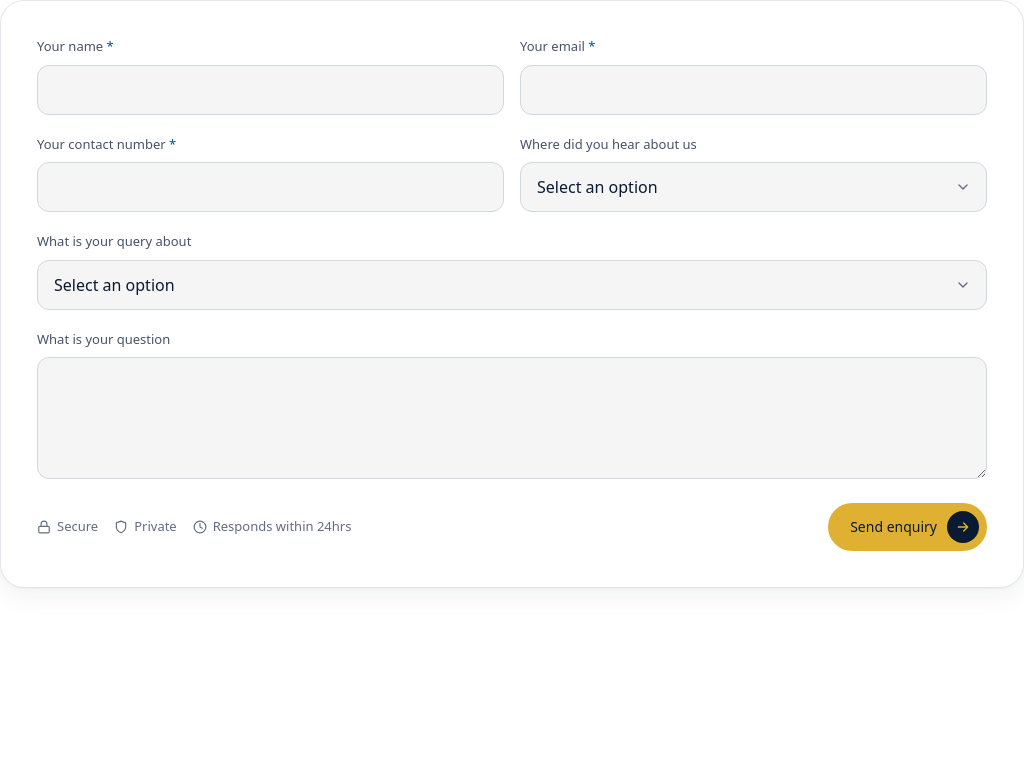
Test case: EnquiryForm › rejects malformed email and phone values
Type "Asha" into the field labelled "Your name *" at (270, 90), box [37,64,504,114]
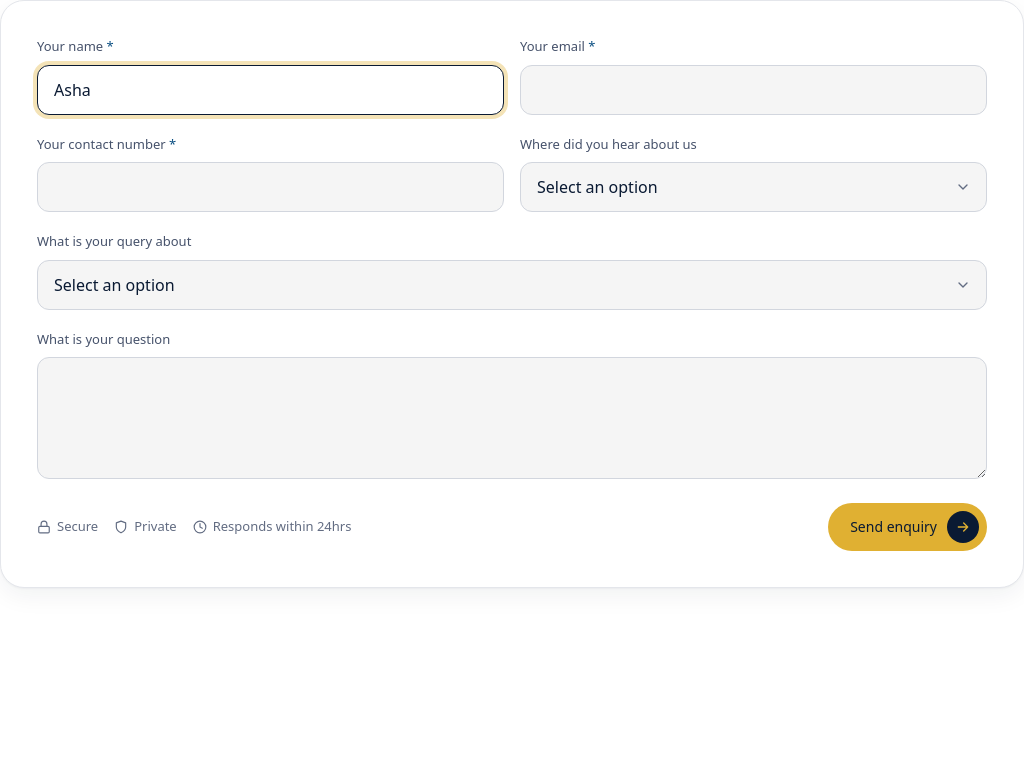
Type "asha@" into the field labelled "Your email *" at (754, 90), box [520,64,987,114]
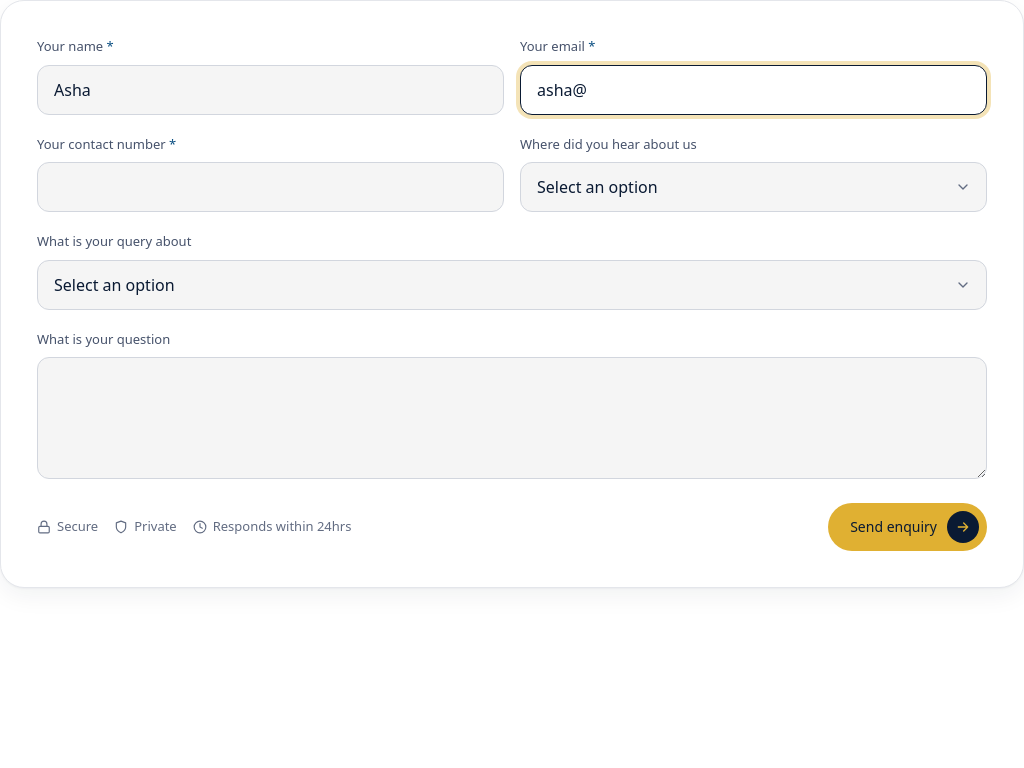
Type "call me" into the field labelled "Your contact number *" at (270, 187), box [37,162,504,212]
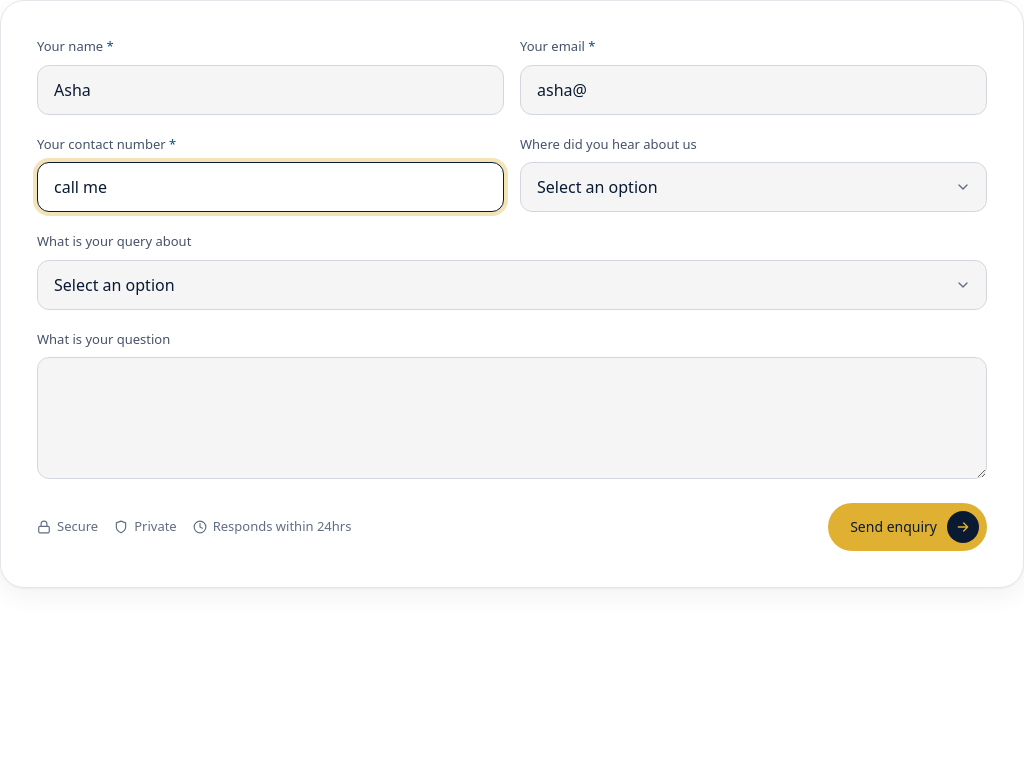
Click the button "Send enquiry Send enquiry" at (908, 527), box [828,503,987,551]
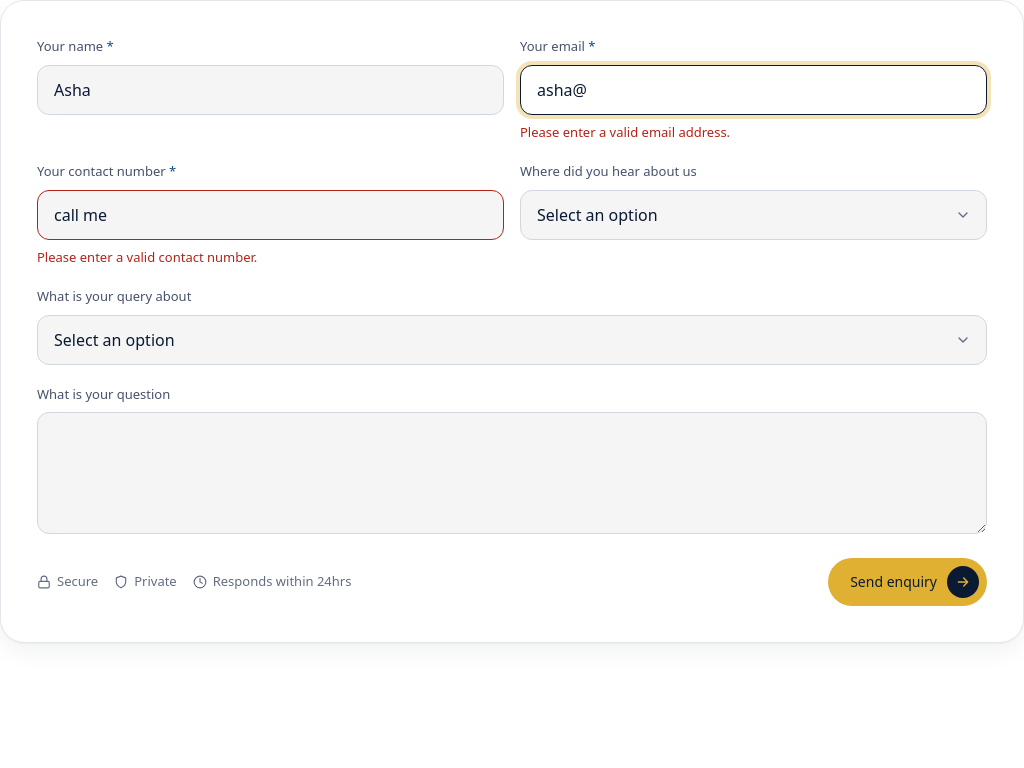
Check: the text "Please enter a valid email address." is shown, box [520,122,730,140]
Check: the text "Please enter a valid contact number." is shown, box [37,248,257,266]
